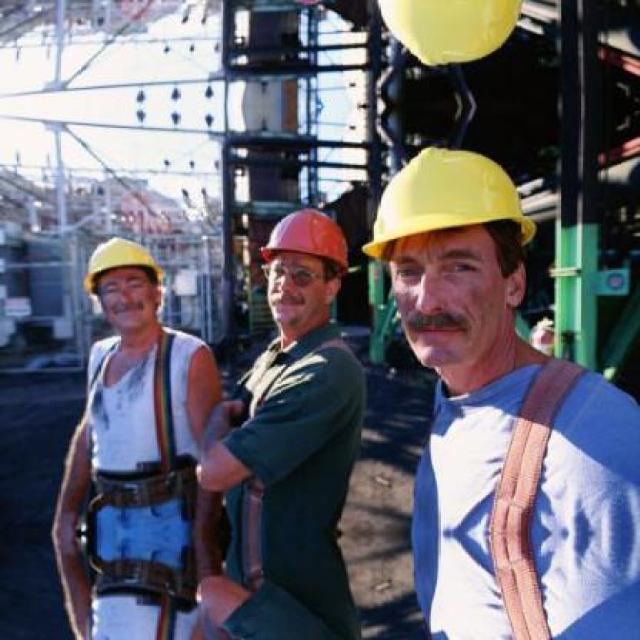helmet: (360, 133, 548, 371), (248, 197, 361, 335), (358, 0, 550, 80), (80, 225, 175, 335)
